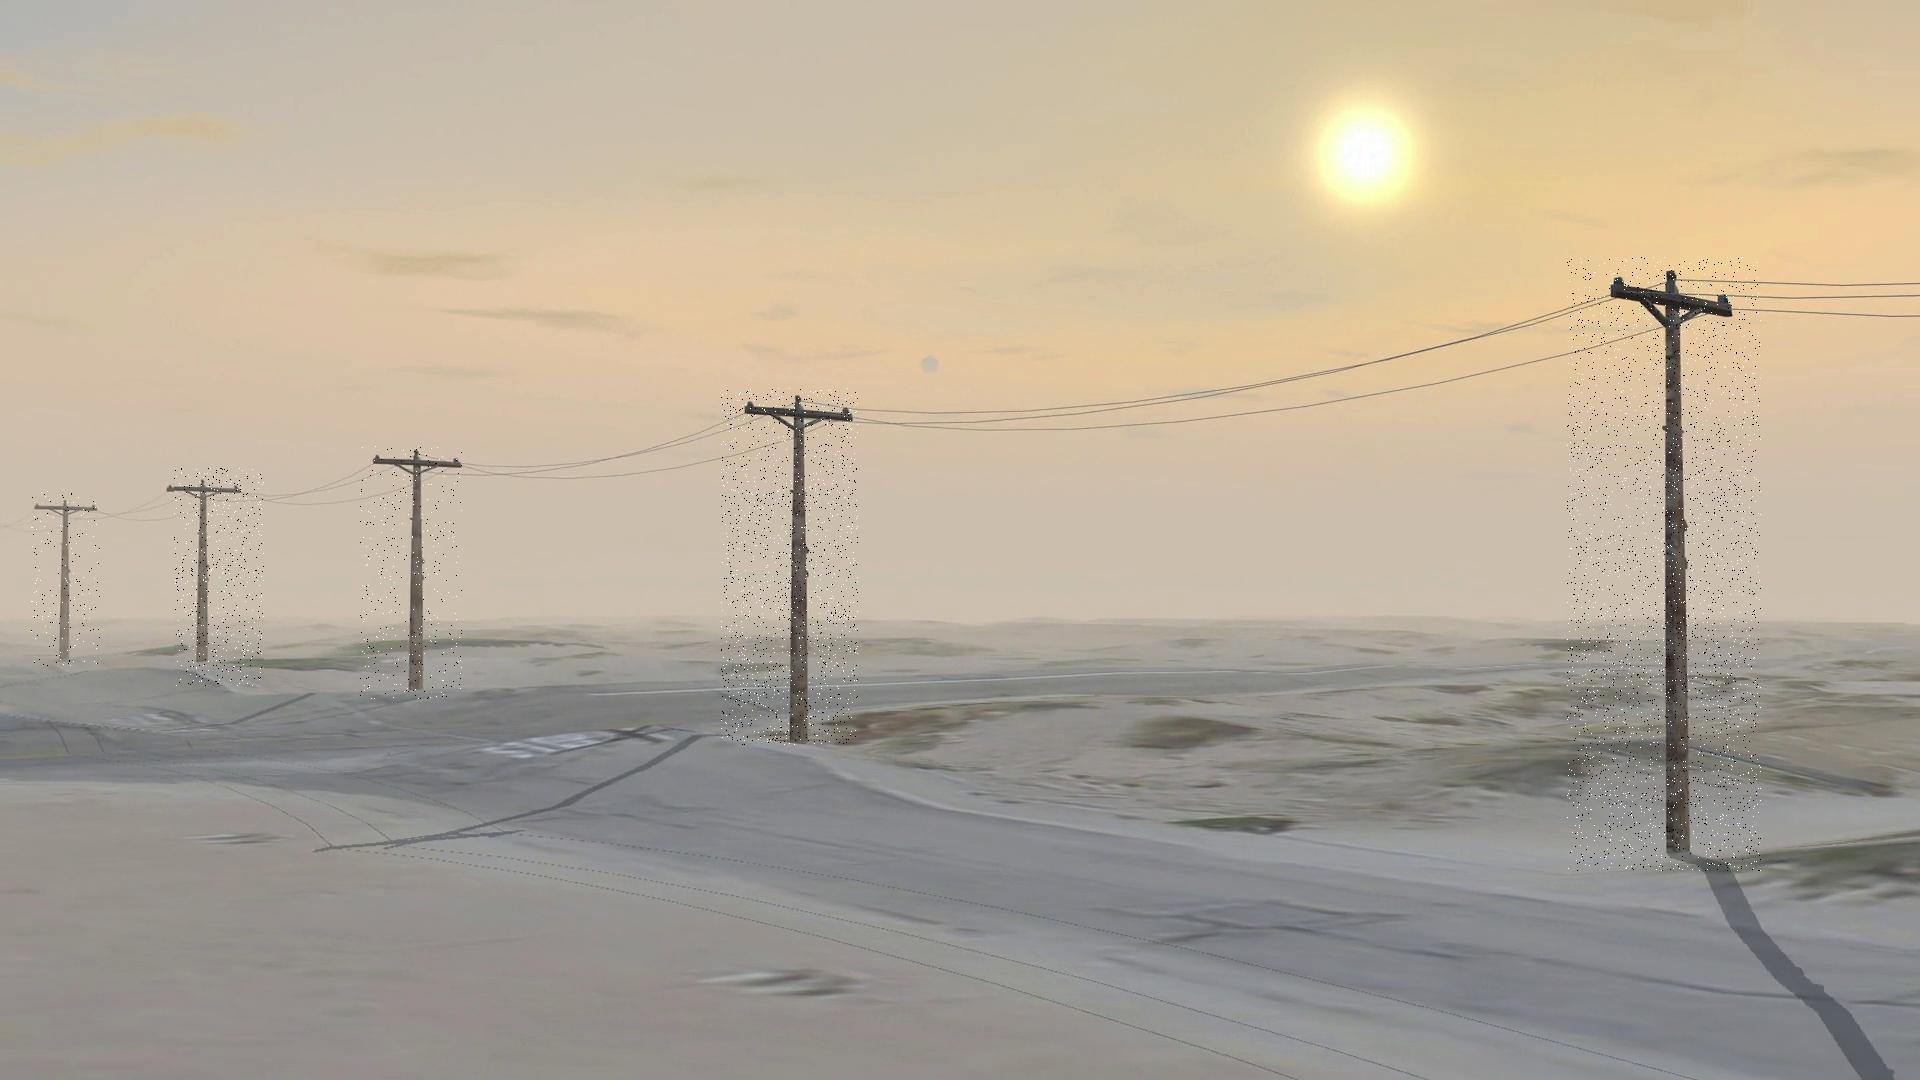cable tower: (1568, 257, 1762, 872), (721, 389, 858, 745), (360, 446, 462, 699), (174, 469, 264, 687), (32, 491, 102, 671)
